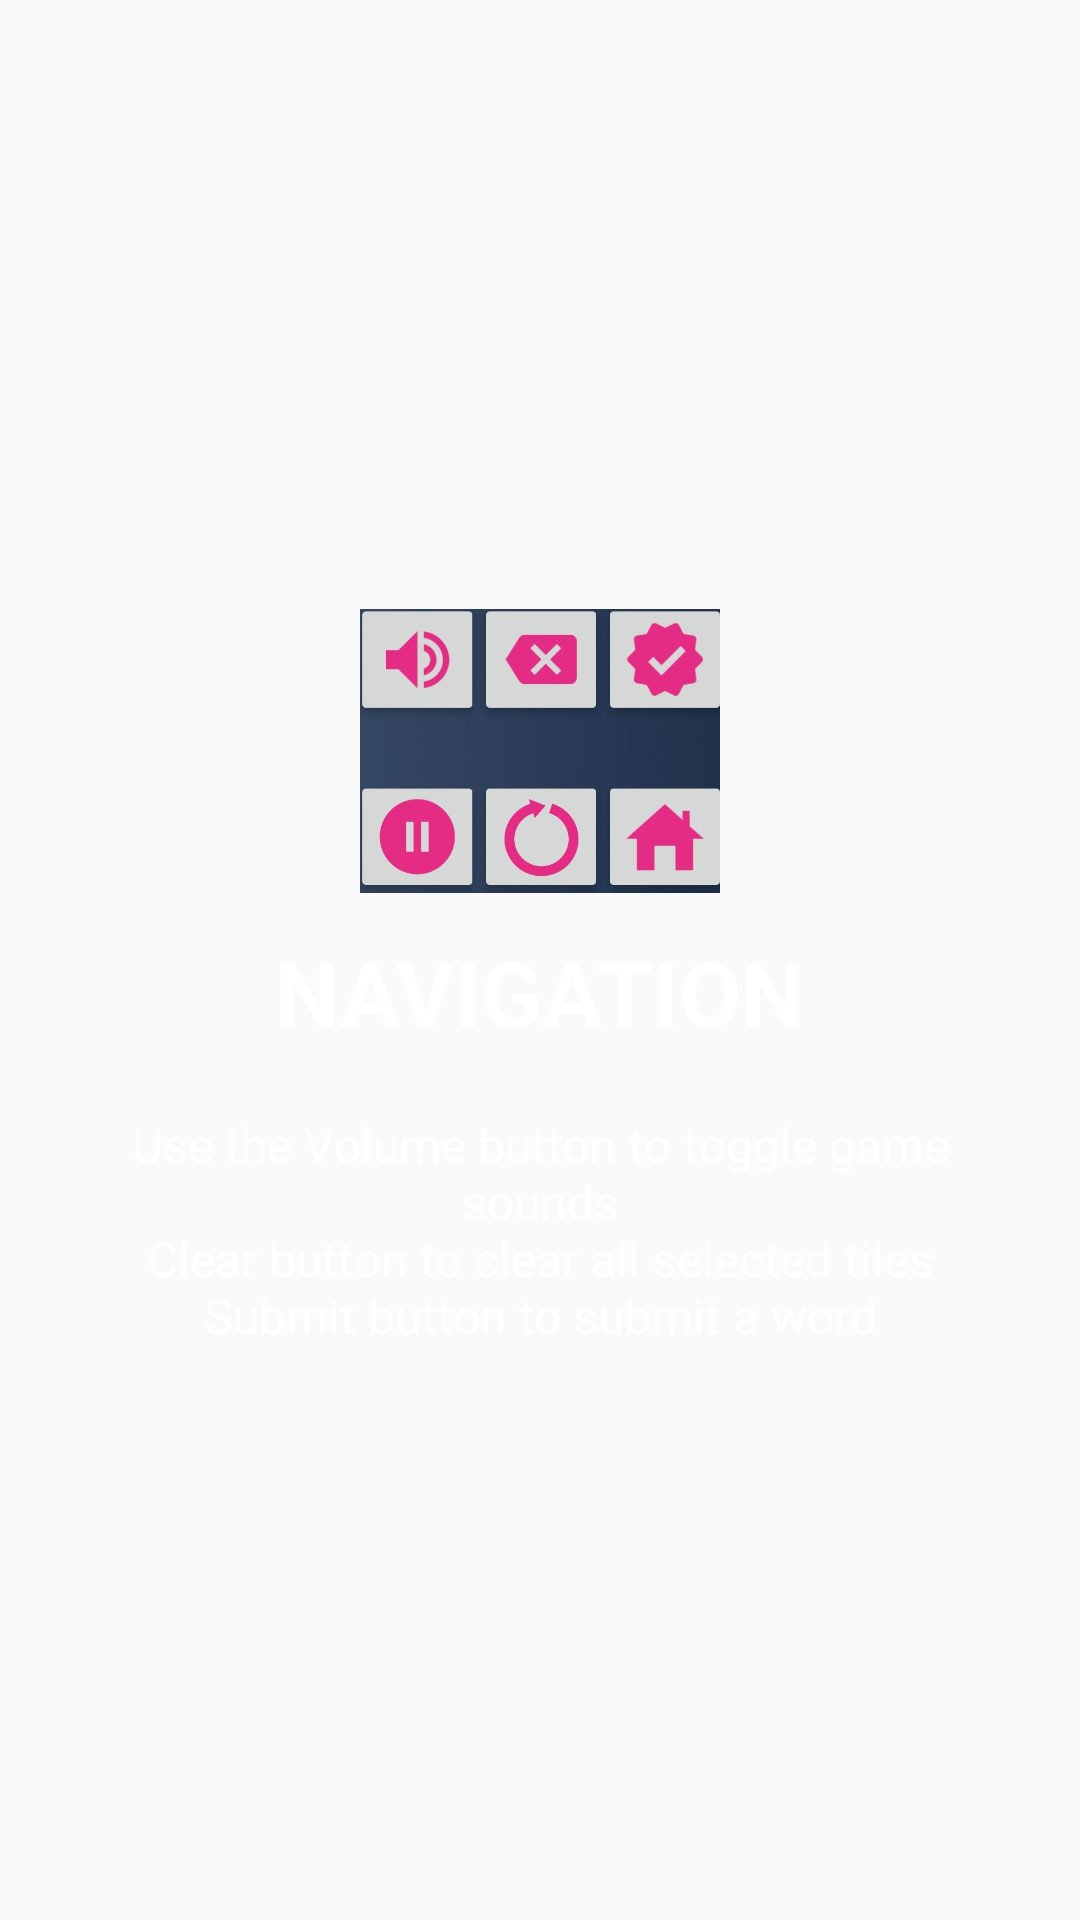

Screen size 1080*1920. Icon name, then its center in pixels as (x,y):
buttons: (540,751)
